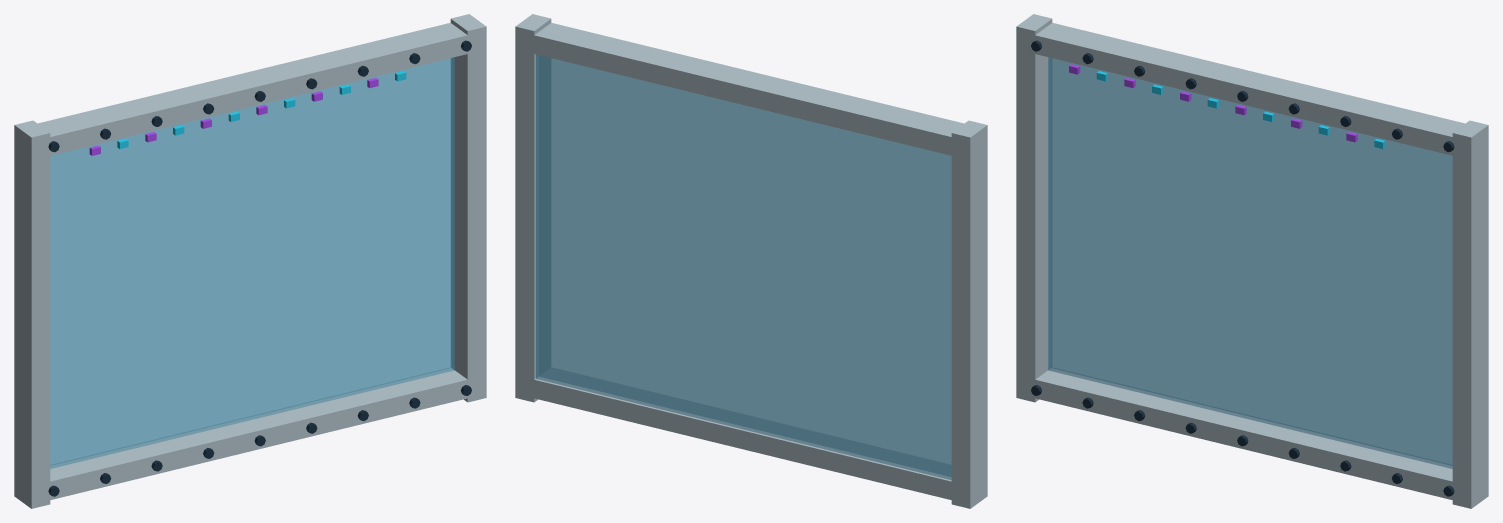
Rendered from 03_L72_QuartzObservationViewport.fbx.
The picture shows the model from 3 angles, left to right: view 1: azimuth 30°, elevation 25°; view 2: azimuth 150°, elevation 25°; view 3: azimuth 330°, elevation 25°; orthographic projection.
Parts seen in each view (by area): view 1: QuartzObservationViewport; view 2: QuartzObservationViewport; view 3: QuartzObservationViewport.
Part boxes in pixels (box(x1,y1,x2,y2)): QuartzObservationViewport: box(14, 14, 486, 508); QuartzObservationViewport: box(515, 14, 987, 508); QuartzObservationViewport: box(1016, 14, 1488, 508).
Size of the model in its own units: 230 by 179 by 18.55.
